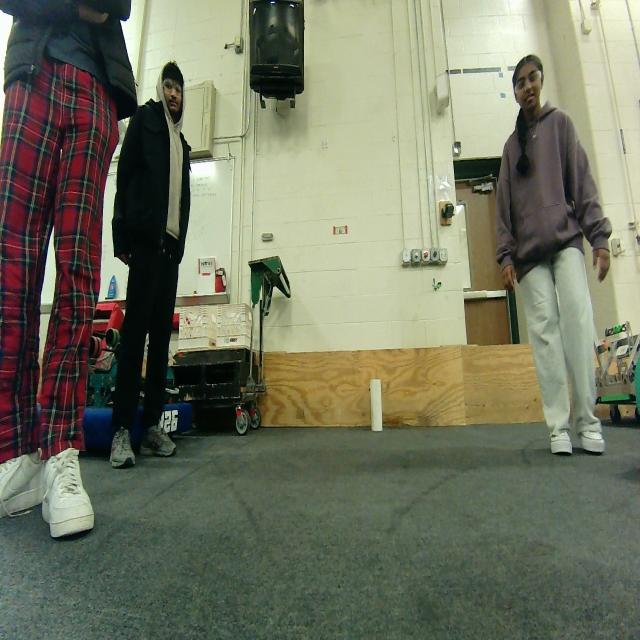coral: (360, 374, 390, 433)
